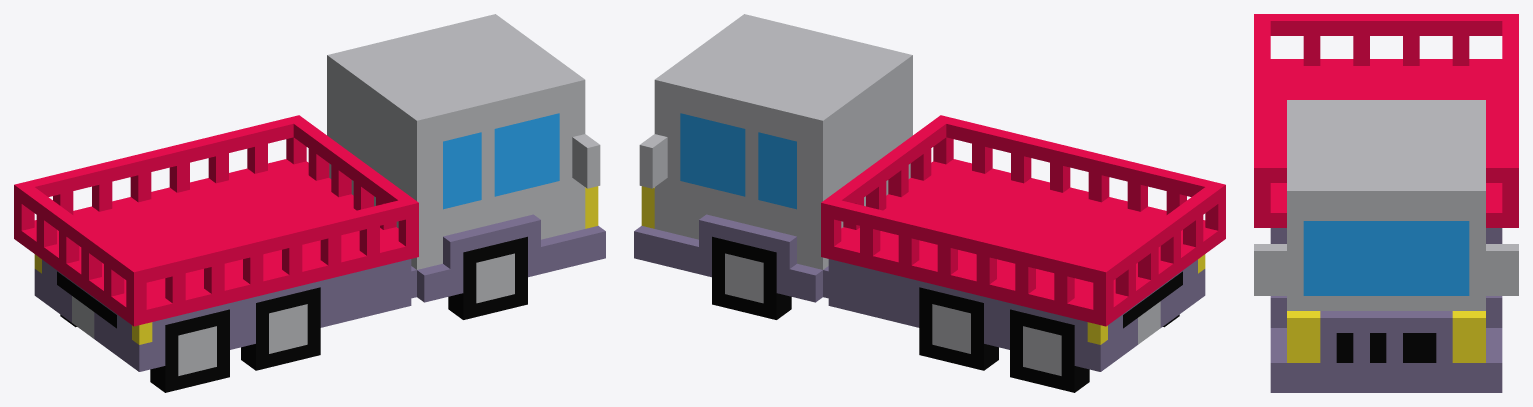
The model's file is truck_a_a.obj.
3 views of the same model, side by side, from view 1: azimuth 30°, elevation 25°; view 2: azimuth 150°, elevation 25°; view 3: azimuth 270°, elevation 25° (orthographic). The views are drawn at different scales.
Size of the model in its own units: 3.7 by 1.5 by 1.6.
1 material, 1 textured.
